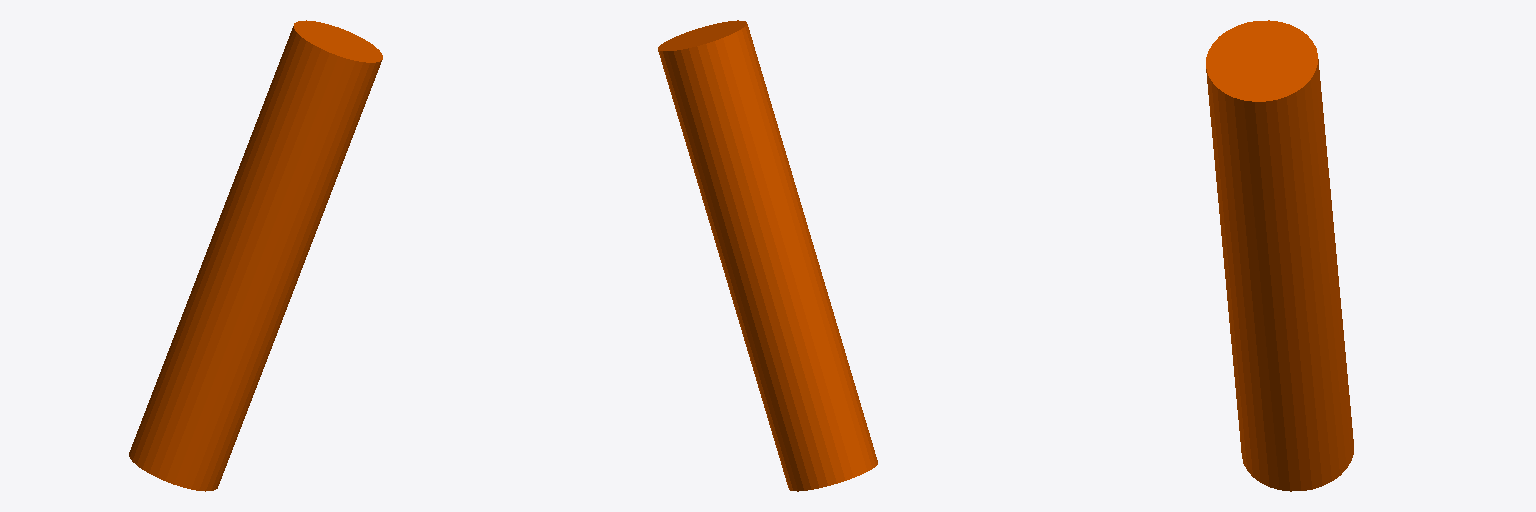
robot.urdf — youbot:
<?xml version="1.0" ?>
<robot name="youbot">
  <mujoco>
    <compiler balanceinertia="true" discardvisual="false"/>
  </mujoco>

  <!--  -->
  
  
  

  

  <link name="base_footprint">
  </link>
  <joint name="base_footprint_joint" type="fixed">
    <origin rpy="0 0 0" xyz="0 0 0"/>
    <child link="base_link"/>
    <parent link="base_footprint"/>
  </joint>
  <link name="base_link">
    <inertial>
      <mass value="22.0"/>
      <origin xyz="0 0 0"/>
      <inertia ixx="5.652232699207" ixy="-0.009719934438" ixz="1.293988226423" iyy="5.669473158652" iyz="-0.007379583694" izz="3.683196351726"/>
    </inertial>
    <visual>
      <origin rpy="0 0 0" xyz="0 0 0"/>
      <geometry>
        <mesh filename="../meshes/youbot_base/base.dae"/>
      </geometry>
    </visual>
    <collision>
      <origin rpy="0 0 0" xyz="0 0 0"/>
      <geometry>
        <mesh filename="../meshes/youbot_base/base_convex.dae"/>
      </geometry>
    </collision>
  </link>
  <joint name="caster_joint_fl" type="fixed">
    <origin rpy="0 0 0" xyz="0.228 0.158 -0.034"/>
    <axis xyz="0 0 1"/>
    <parent link="base_link"/>
    <child link="caster_link_fl"/>
  </joint>
  <link name="caster_link_fl">
    <inertial>
      <mass value="0.1"/>
      <origin xyz="0 0 0"/>
      <inertia ixx="0.012411765597" ixy="-0.000711733678" ixz="0.00050272983" iyy="0.015218160428" iyz="-0.000004273467" izz="0.011763977943"/>
    </inertial>
  </link>
  <joint name="wheel_joint_fl" type="continuous">
    <axis xyz="0 1 0"/>
    <limit effort="30" velocity="10"/>
    <origin rpy="0 0 0" xyz="0.0 0.0 0.0"/>
    <parent link="caster_link_fl"/>
    <dynamics damping="1.0" friction="1.0"/>
    <child link="wheel_link_fl"/>
  </joint>
  <link name="wheel_link_fl">
    <inertial>
      <mass value="0.4"/>
      <origin xyz="0 0 0"/>
      <inertia ixx="0.012411765597" ixy="-0.000711733678" ixz="0.00050272983" iyy="0.015218160428" iyz="-0.000004273467" izz="0.011763977943"/>
    </inertial>
    <visual>
      <origin rpy="0 0 0" xyz="0 0 0"/>
      <geometry>
        <mesh filename="../meshes/youbot_base/front-left_wheel.dae"/>
      </geometry>
    </visual>
    <collision>
      <origin rpy="1.570795 0 0" xyz="0 0 0"/>
      <geometry>
        <cylinder length="0.05" radius="0.05"/>
      </geometry>
    </collision>
  </link>
  <joint name="caster_joint_fr" type="fixed">
    <origin rpy="0 0 0" xyz="0.228 -0.158 -0.034"/>
    <axis xyz="0 0 1"/>
    <parent link="base_link"/>
    <child link="caster_link_fr"/>
  </joint>
  <link name="caster_link_fr">
    <inertial>
      <mass value="0.1"/>
      <origin xyz="0 0 0"/>
      <inertia ixx="0.012411765597" ixy="-0.000711733678" ixz="0.00050272983" iyy="0.015218160428" iyz="-0.000004273467" izz="0.011763977943"/>
    </inertial>
  </link>
  <joint name="wheel_joint_fr" type="continuous">
    <axis xyz="0 1 0"/>
    <limit effort="30" velocity="10"/>
    <dynamics damping="1.0" friction="1.0"/>
    <origin rpy="0 0 0" xyz="0.0 0.0 0.0"/>
    <parent link="caster_link_fr"/>
    <child link="wheel_link_fr"/>
  </joint>
  <link name="wheel_link_fr">
    <inertial>
      <mass value="0.4"/>
      <origin xyz="0 0 0"/>
      <inertia ixx="0.012411765597" ixy="-0.000711733678" ixz="0.00050272983" iyy="0.015218160428" iyz="-0.000004273467" izz="0.011763977943"/>
    </inertial>
    <visual>
      <origin rpy="0 0 0" xyz="0 0 0"/>
      <geometry>
        <mesh filename="../meshes/youbot_base/front-right_wheel.dae"/>
      </geometry>
    </visual>
    <collision>
      <origin rpy="1.570795 0 0" xyz="0 0 0"/>
      <geometry>
        <cylinder length="0.05" radius="0.05"/>
      </geometry>
    </collision>
  </link>
  <joint name="caster_joint_bl" type="fixed">
    <origin rpy="0 0 0" xyz="-0.228 0.158 -0.034"/>
    <axis xyz="0 0 1"/>
    <parent link="base_link"/>
    <child link="caster_link_bl"/>
  </joint>
  <link name="caster_link_bl">
    <inertial>
      <mass value="0.1"/>
      <origin xyz="0 0 0"/>
      <inertia ixx="0.012411765597" ixy="-0.000711733678" ixz="0.00050272983" iyy="0.015218160428" iyz="-0.000004273467" izz="0.011763977943"/>
    </inertial>
  </link>
  <joint name="wheel_joint_bl" type="continuous">
    <axis xyz="0 1 0"/>
    <limit effort="30" velocity="10"/>
    <dynamics damping="1.0" friction="1.0"/>
    <origin rpy="0 0 0" xyz="0.0 0.0 0.0"/>
    <parent link="caster_link_bl"/>
    <child link="wheel_link_bl"/>
  </joint>
  <link name="wheel_link_bl">
    <inertial>
      <mass value="0.4"/>
      <origin xyz="0 0 0"/>
      <inertia ixx="0.012411765597" ixy="-0.000711733678" ixz="0.00050272983" iyy="0.015218160428" iyz="-0.000004273467" izz="0.011763977943"/>
    </inertial>
    <visual>
      <origin rpy="0 0 0" xyz="0 0 0"/>
      <geometry>
        <mesh filename="../meshes/youbot_base/back-left_wheel.dae"/>
      </geometry>
    </visual>
    <collision>
      <origin rpy="1.570795 0 0" xyz="0 0 0"/>
      <geometry>
        <cylinder length="0.05" radius="0.05"/>
      </geometry>
    </collision>
  </link>
  <joint name="caster_joint_br" type="fixed">
    <origin rpy="0 0 0" xyz="-0.228 -0.158 -0.034"/>
    <axis xyz="0 0 1"/>
    <parent link="base_link"/>
    <child link="caster_link_br"/>
  </joint>
  <link name="caster_link_br">
    <inertial>
      <mass value="0.1"/>
      <origin xyz="0 0 0"/>
      <inertia ixx="0.012411765597" ixy="-0.000711733678" ixz="0.00050272983" iyy="0.015218160428" iyz="-0.000004273467" izz="0.011763977943"/>
    </inertial>
  </link>
  <joint name="wheel_joint_br" type="continuous">
    <axis xyz="0 1 0"/>
    <limit effort="30" velocity="10"/>
    <dynamics damping="1.0" friction="1.0"/>
    <origin rpy="0 0 0" xyz="0.0 0.0 0.0"/>
    <parent link="caster_link_br"/>
    <child link="wheel_link_br"/>
  </joint>
  <link name="wheel_link_br">
    <inertial>
      <mass value="0.4"/>
      <origin xyz="0 0 0"/>
      <inertia ixx="0.012411765597" ixy="-0.000711733678" ixz="0.00050272983" iyy="0.015218160428" iyz="-0.000004273467" izz="0.011763977943"/>
    </inertial>
    <visual>
      <origin rpy="0 0 0" xyz="0 0 0"/>
      <geometry>
        <mesh filename="../meshes/youbot_base/back-right_wheel.dae"/>
      </geometry>
    </visual>
    <collision>
      <origin rpy="1.570795 0 0" xyz="0 0 0"/>
      <geometry>
        <cylinder length="0.05" radius="0.05"/>
      </geometry>
    </collision>
  </link>
  <joint name="base_laser_front_hokuyo_urg04_laser_joint" type="fixed">
    <axis xyz="0 1 0"/>
    <origin rpy="3.14159 3.14159 3.14159" xyz="0.3 0 -0.03"/>
    <parent link="base_link"/>
    <child link="base_laser_front_link"/>
  </joint>
  <link name="base_laser_front_link">
    <inertial>
      <mass value="0.16"/>
      <origin rpy="0 0 0" xyz="0 0 0"/>
      <inertia ixx="0.1" ixy="0" ixz="0" iyy="0.1" iyz="0" izz="0.1"/>
    </inertial>
    <visual>
      <origin rpy="0 0 0" xyz="0 0 0"/>
      <geometry>
        <mesh filename="../meshes/sensors/hokuyo.dae"/>
      </geometry>
      <material name="black"/>
    </visual>
    <collision>
      <origin rpy="0 0 0" xyz="0 0 0"/>
      <geometry>
        <mesh filename="../meshes/sensors/hokuyo_convex.dae"/>
      </geometry>
    </collision>
    
  </link>

  

  
  <!-- 
  <transmission name="wheel_trans_fl">
    <type>transmission_interface/SimpleTransmission</type>
    <joint name="wheel_joint_fl"/>
    <actuator name="wheel_motor_fl">
      <hardwareInterface>EffortJointInterface</hardwareInterface>
      <mechanicalReduction>79.2380952381</mechanicalReduction>
    </actuator>
  </transmission>
  <transmission name="wheel_trans_fr">
    <type>transmission_interface/SimpleTransmission</type>
    <joint name="wheel_joint_fr"/>
    <actuator name="wheel_motor_fr">
      <hardwareInterface>EffortJointInterface</hardwareInterface>
      <mechanicalReduction>79.2380952381</mechanicalReduction>
    </actuator>
  </transmission>
  <transmission name="wheel_trans_bl">
    <type>transmission_interface/SimpleTransmission</type>
    <joint name="wheel_joint_bl"/>
    <actuator name="wheel_motor_bl">
      <hardwareInterface>EffortJointInterface</hardwareInterface>
      <mechanicalReduction>79.2380952381</mechanicalReduction>
    </actuator>
  </transmission>
  <transmission name="wheel_trans_br">
    <type>transmission_interface/SimpleTransmission</type>
    <joint name="wheel_joint_br"/>
    <actuator name="wheel_motor_br">
      <hardwareInterface>EffortJointInterface</hardwareInterface>
      <mechanicalReduction>79.2380952381</mechanicalReduction>
    </actuator>
  </transmission> -->
  <joint name="plate_joint" type="fixed">
    <origin rpy="0 0 0" xyz="-0.159 0 0.055"/>
    <parent link="base_link"/>
    <child link="plate_link"/>
  </joint>
  <link name="plate_link">
    <inertial>
      <origin rpy="0 0 0" xyz="0 0 -0.025"/>
      <mass value="1"/>
      <inertia ixx="0.01" ixy="0" ixz="0" iyy="0.01" iyz="0" izz="0.01"/>
    </inertial>
    <visual>
      <origin rpy="0 0 0" xyz="0 0 -0.025"/>
      <geometry>
        <mesh filename="../meshes/youbot_plate/plate.dae"/>
      </geometry>
    </visual>
    <collision>
      <origin rpy="0 0 0" xyz="0 0 -0.025"/>
      <geometry>
        <mesh filename="../meshes/youbot_plate/plate_convex.dae"/>
      </geometry>
    </collision>
  </link>
  <joint name="arm_joint_0" type="fixed">
    <origin rpy="0 0 0" xyz="0.143 0 0.046"/>
    <parent link="base_link"/>
    <child link="arm_link_0"/>
  </joint>
  <link name="arm_link_0">
    <inertial>
      <!--<origin xyz="0.023 0 0.006" rpy="0 0 0"/>-->
      <origin rpy="0 0 0" xyz="0 0 0"/>
      <mass value="0.845"/>
      <inertia ixx="0.01" ixy="0" ixz="0" iyy="0.01" iyz="0" izz="0.01"/>
    </inertial>
    <visual>
      <origin rpy="0 0 0" xyz="0 0 0"/>
      <geometry>
        <mesh filename="../meshes/youbot_arm/arm0.dae"/>
      </geometry>
    </visual>
    <collision>
      <!--<origin xyz="0.023 0 0.006" rpy="0 0 0"/>-->
      <origin rpy="0 0 0" xyz="0 0 0"/>
      <geometry>
        <mesh filename="../meshes/youbot_arm/arm0_convex.dae"/>
        <!--<cylinder length="0.078" radius="0.093"/>-->
      </geometry>
    </collision>
  </link>
  <joint name="arm_joint_1" type="revolute">
    <origin rpy="0 0 2.96705722222" xyz="0.024 0 0.095"/>
    <parent link="arm_link_0"/>
    <child link="arm_link_1"/>
    <axis xyz="0 0 -1"/>
    <!--<calibration rising="${arm_1_ref}" falling="${arm_1_ref}"/>-->
    <dynamics damping="1" friction="1"/>
    <!-- damping - N*s/m, N*s*m/rad -->
    <!-- friction - N, N*m -->
    <limit effort="10000.0" lower="0" upper="5.89920788889" velocity="1.570795"/>
    <!--effort - N, N*m-->
    <!--velocity - m/s, rad/s-->
    <!--k_position N/m, N/rad-->
    <!--k_velocity N*s/m, N*s*m/rad-->
    <!--for details: http://www.ros.org/wiki/pr2_controller_manager/safety_limits-->
  </joint>
  <link name="arm_link_1">
    <inertial>
      <mass value="2.412"/>
      <origin rpy="0 0 0" xyz="0.01489 0.00213 0.00213"/>
      <inertia ixx="0.003863" ixy="-0.000979" ixz="0.000000" iyy="0.006196" iyz="0.000000" izz="0.006369"/>
    </inertial>
    <visual>
      <origin xyz="0 0 0" rpy="0 0 0" />
      <geometry>
        <mesh filename="../meshes/youbot_arm/arm1.dae"/>
      </geometry>
    </visual>
    <collision>
      <!--<origin xyz="0 0 -0.003" rpy="0 0 0" />-->
      <origin xyz="0 0 0.02" rpy="3.14159 0 0" />
      <geometry>
        <mesh filename="../meshes/youbot_arm/arm_joint_1_convex.stl"/>
        <!--<cylinder length="0.102" radius="0.080"/>-->
      </geometry>
    </collision>
  </link>
  <joint name="arm_joint_2" type="revolute">
    <origin rpy="0 -1.13446305556 0" xyz="0.033 0 0.02"/>
    <parent link="arm_link_1"/>
    <child link="arm_link_2"/>
    <axis xyz="0 1 0"/>
    <!--<calibration rising="${arm_2_ref}" falling="${arm_2_ref}"/>-->
    <dynamics damping="1" friction="1"/>
    <limit effort="10000.0" lower="0" upper="2.70525805556" velocity="1.570795"/>
  </joint>
  <link name="arm_link_2">
    <inertial>
      <mass value="1.155"/>
      <origin rpy="0 0 0" xyz="0.10453 0.0017 -0.00297"/>
      <inertia ixx="0.000823" ixy="0.000000" ixz="-0.000000" iyy="0.004447" iyz="0.000000" izz="0.004439"/>
    </inertial>
    <visual>
      <origin xyz="0.001 -0.03 0.077" rpy="0 0 0" />
      <geometry>
        <mesh filename="../meshes/youbot_arm/arm2.dae"/>
      </geometry>
    </visual>
    <collision>
      <!--<origin xyz="0.001 -0.041 0.074" rpy="0 0 0" />-->
      <origin rpy="-1.570795 -1.570795 0" xyz="0 0 0"/>
      <geometry>
        <mesh filename="../meshes/youbot_arm/arm_joint_2_convex.stl"/>
        <!--<box size="0.074 0.082 0.222"/>-->
      </geometry>
    </collision>
  </link>
  <joint name="arm_joint_3" type="revolute">
    <origin rpy="0 2.54817855556 0" xyz="0.000 0.000 0.155"/>
    <parent link="arm_link_2"/>
    <child link="arm_link_3"/>
    <axis xyz="0 1 0"/>
    <dynamics damping="1" friction="1"/>
    <limit effort="10000.0" lower="-5.1836235" upper="0" velocity="1.570795"/>
  </joint>
  <link name="arm_link_3">
    <inertial>
      <mass value="0.934"/>
      <origin rpy="0 0 0" xyz="0.0001 0.0967 0.02107"/>
      <inertia ixx="0.002459" ixy="0.000000" ixz="0.000000" iyy="0.002571" iyz="-0.000000" izz="0.000535"/>
    </inertial>
    <visual>
      <origin rpy="0 0 0" xyz="0.000 0.027 0.08"/>
      <geometry>
        <mesh filename="../meshes/youbot_arm/arm3.dae"/>
      </geometry>
    </visual>
    <collision>
      <!--<origin xyz="0.000 0.025 0.067" rpy="0 0 0" />-->
      <origin rpy="1.570795 0 3.14159" xyz="0 0 0"/>
      <geometry>
        <mesh filename="../meshes/youbot_arm/arm_joint_3_convex.stl"/>
        <!--<box size="0.064 0.054 0.192"/>-->
      </geometry>
    </collision>
  </link>
  <joint name="arm_joint_4" type="revolute">
    <origin rpy="0 -1.78896097222 0" xyz="0.000 0.000 0.135"/>
    <parent link="arm_link_3"/>
    <child link="arm_link_4"/>
    <axis xyz="0 1 0"/>
    <dynamics damping="1" friction="1"/>
    <limit effort="10000.0" lower="0" upper="3.57792194444" velocity="1.570795"/>
  </joint>
  <link name="arm_link_4">
    <inertial>
      <mass value="0.877"/>
      <origin rpy="0 0 0" xyz="0.00011 0.05103 -0.02319"/>
      <inertia ixx="0.000869" ixy="0.000000" ixz="-0.000000" iyy="0.001173" iyz="-0.000231" izz="0.001091"/>
    </inertial>
    <visual>
      <origin rpy="0 0 0" xyz="0 -0.008 0.026"/>
      <geometry>
        <mesh filename="../meshes/youbot_arm/arm4.dae"/>
      </geometry>
    </visual>
    <collision>
      <!--<origin xyz="0 0 0.026" rpy="0 0 0" />-->
      <origin rpy="1.570795 0 3.14159" xyz="0 0 0"/>
      <geometry>
        <mesh filename="../meshes/youbot_arm/arm_joint_4_convex.stl"/>
        <!--<box size="0.058 0.100 0.118"/>-->
      </geometry>
    </collision>
  </link>
  <joint name="arm_joint_5" type="revolute">
    <origin rpy="0 0 2.92342402778" xyz="0 0 0.114"/>
    <parent link="arm_link_4"/>
    <child link="arm_link_5"/>
    <axis xyz="0 0 -1"/>
    <dynamics damping="1" friction="1"/>
    <limit effort="10000.0" lower="0" upper="5.84684805556" velocity="1.570795"/>
  </joint>
  <link name="arm_link_5">
    <inertial>
      <mass value="0.251"/>
      <origin rpy="0 0 0" xyz="0.0 0.00115 -0.01683"/>
      <inertia ixx="0.000280" ixy="0.000000" ixz="0.000000" iyy="0.000339" iyz="0.000000" izz="0.000119"/>
    </inertial>
    <visual>
      <origin rpy="0 0 0" xyz="0 0 -0.019"/>
      <geometry>
        <mesh filename="../meshes/youbot_arm/arm5.dae"/>
      </geometry>
    </visual>
    <collision>
      <origin rpy="0 0 0" xyz="0 0 0"/>
      <geometry>
        <mesh filename="../meshes/youbot_arm/arm5.dae"/>
      </geometry>
    </collision>
  </link>

  <!-- ==================== GRIPPER ==================== -->
  <!-- Gripper Palm (fixed to arm_link_5) -->
  <joint name="gripper_palm_joint" type="fixed">
    <origin rpy="0 0 0" xyz="0 0 0"/>
    <parent link="arm_link_5"/>
    <child link="gripper_palm_link"/>
  </joint>

  <link name="gripper_palm_link">
    <inertial>
      <mass value="0.1"/>
      <origin rpy="0 0 0" xyz="0 0 0"/>
      <inertia ixx="0.01" ixy="0" ixz="0" iyy="0.01" iyz="0" izz="0.01"/>
    </inertial>
    <visual>
      <origin rpy="0 0 0" xyz="0 0 0"/>
      <geometry>
        <mesh filename="../meshes/youbot_gripper/palm.dae"/>
      </geometry>
    </visual>
    <collision>
      <origin rpy="0 0 0" xyz="0 0 0"/>
      <geometry>
        <mesh filename="../meshes/youbot_gripper/palm_convex.dae"/>
      </geometry>
    </collision>
  </link>

  <!-- Gripper Left Finger -->
  <joint name="gripper_finger_joint_l" type="prismatic">
    <origin rpy="0 0 0" xyz="0.0 0.0085 0.0"/>
    <parent link="gripper_palm_link"/>
    <child link="gripper_finger_link_l"/>
    <axis xyz="0 1 0"/>
    <dynamics damping="1.0" friction="1.0"/>
    <limit effort="20" lower="0.0" upper="0.0115" velocity="1.0"/>
  </joint>

  <link name="gripper_finger_link_l">
    <inertial>
      <mass value="0.01"/>
      <origin rpy="0 0 0" xyz="0 0 0"/>
      <inertia ixx="0.001" ixy="0" ixz="0" iyy="0.001" iyz="0" izz="0.001"/>
    </inertial>
    <visual>
      <origin rpy="0 0 0" xyz="0 0 0"/>
      <geometry>
        <mesh filename="../meshes/youbot_gripper/finger.dae"/>
      </geometry>
    </visual>
    <collision>
      <origin rpy="0 0 0" xyz="0 0 0"/>
      <geometry>
        <mesh filename="../meshes/youbot_gripper/finger_convex.dae"/>
      </geometry>
    </collision>
  </link>

  <!-- Gripper Right Finger -->
  <joint name="gripper_finger_joint_r" type="prismatic">
    <origin rpy="0 0 3.14159265359" xyz="0.0 -0.0085 0.0"/>
    <parent link="gripper_palm_link"/>
    <child link="gripper_finger_link_r"/>
    <axis xyz="0 1 0"/>
    <dynamics damping="1.0" friction="1.0"/>
    <limit effort="20" lower="0.0" upper="0.0115" velocity="1.0"/>
    
  </joint>

  <link name="gripper_finger_link_r">
    <inertial>
      <mass value="0.01"/>
      <origin rpy="0 0 0" xyz="0 0 0"/>
      <inertia ixx="0.001" ixy="0" ixz="0" iyy="0.001" iyz="0" izz="0.001"/>
    </inertial>
    <visual>
      <origin rpy="0 0 0" xyz="0 0 0"/>
      <geometry>
        <mesh filename="../meshes/youbot_gripper/finger.dae"/>
      </geometry>
    </visual>
    <collision>
      <origin rpy="0 0 0" xyz="0 0 0"/>
      <geometry>
        <mesh filename="../meshes/youbot_gripper/finger_convex.dae"/>
      </geometry>
    </collision>
  </link>

  <!-- Gazebo configuration for gripper -->
  
  
  
  <!-- ==================== END GRIPPER ==================== -->

  <link name="pen">
    <inertial>
      <mass value="0.01"/>
      <origin rpy="0 0 0.1" xyz="0.0 0.00115 -0.01683"/>
      <inertia ixx="0.01" ixy="0.000000" ixz="0.000000" iyy="0.01" iyz="0.000000" izz="0.01"/>
    </inertial>
    <visual>
      <origin rpy="0 0 0.05" xyz="0 0 0"/>
      <geometry>
        <cylinder length="0.1" radius="0.01"/>
      </geometry>
    </visual>
    <collision>
      <origin rpy="0 0 0.05" xyz="0 0 0"/>
      <geometry>
        <cylinder length="0.1" radius="0.01"/>
      </geometry>
    </collision>
  </link>
  <joint name="pen_joint" type="fixed">
    <origin rpy="0 0 0" xyz="0 0 0"/>
    <parent link="gripper_palm_link"/>
    <child link="pen"/>
    <axis xyz="0 0 -1"/>
    <dynamics damping="1" friction="1"/>
    <limit effort="10000.0" lower="0" upper="5.84684805556" velocity="1.570795"/>
  </joint>

  <!--<link name="printer">
    <inertial>
      <mass value="0.01"/>
      <origin rpy="0 0 0" xyz="0 0 0"/>
      <inertia ixx="0.01" ixy="0.000000" ixz="0.000000" iyy="0.01" iyz="0.000000" izz="0.01"/>
    </inertial>
    <collision>
      <origin rpy="0 0 0.05" xyz="0 0 0"/>
      <geometry>
        <box size="0.1 0.1 0.1"/>
      </geometry>
    </collision>
	<visual>
      <origin rpy="0 0 0.05" xyz="0 0 0"/>
      <geometry>
        <box size="0.1 0.1 0.1"/>
      </geometry>
    </visual>
  </link>

  <joint name="printer_joint" type="fixed">
    <origin rpy="0 0 0" xyz="0 0 0"/>
    <parent link="pen"/>
    <child link="printer"/>
    <axis xyz="0 0 -1"/>
    <dynamics damping="1" friction="1"/>
    <limit effort="10000.0" lower="0" upper="5.84684805556" velocity="1.570795"/>
  </joint>-->

  

  
  
  
  
  
  
  
  
  
  
  
  
  
  
  
  
  
  

  <!-- <transmission name="arm_trans_1">
    <type>transmission_interface/SimpleTransmission</type>
    <joint name="arm_joint_1"/>
    <actuator name="arm_motor_1">
      <hardwareInterface>EffortJointInterface</hardwareInterface>
      <mechanicalReduction>1</mechanicalReduction>
    </actuator>
  </transmission>
  <transmission name="arm_trans_2">
    <type>transmission_interface/SimpleTransmission</type>
    <joint name="arm_joint_2"/>
    <actuator name="arm_motor_2">
      <hardwareInterface>EffortJointInterface</hardwareInterface>
      <mechanicalReduction>1</mechanicalReduction>
    </actuator>
  </transmission>
  <transmission name="arm_trans_3">
    <type>transmission_interface/SimpleTransmission</type>
    <joint name="arm_joint_3"/>
    <actuator name="arm_motor_3">
      <hardwareInterface>EffortJointInterface</hardwareInterface>
      <mechanicalReduction>1</mechanicalReduction>
    </actuator>
  </transmission>
  <transmission name="arm_trans_4">
    <type>transmission_interface/SimpleTransmission</type>
    <joint name="arm_joint_4"/>
    <actuator name="arm_motor_4">
      <hardwareInterface>EffortJointInterface</hardwareInterface>
      <mechanicalReduction>1</mechanicalReduction>
    </actuator>
  </transmission>
  <transmission name="arm_trans_5">
    <type>transmission_interface/SimpleTransmission</type>
    <joint name="arm_joint_5"/>
    <actuator name="arm_motor_5">
      <hardwareInterface>EffortJointInterface</hardwareInterface>
      <mechanicalReduction>1</mechanicalReduction>
    </actuator>
  </transmission> -->

  <!-- <ros2_control name="GazeboSystem" type="system">
    <hardware>
      <plugin>gazebo_ros2_control/GazeboSystem</plugin>
    </hardware>
    <joint name="arm_joint_1">
      <command_interface name="position">
        <param name="min">0</param>
        <param name="max">5.89920788889</param>
      </command_interface>
      <state_interface name="position"/>
      <state_interface name="velocity"/>
      <state_interface name="effort"/>
    </joint>
    <joint name="arm_joint_2">
      <command_interface name="position">
        <param name="min">0</param>
        <param name="max">2.70525805556</param>
      </command_interface>
      <state_interface name="position"/>
      <state_interface name="velocity"/>
      <state_interface name="effort"/>
    </joint>
    <joint name="arm_joint_3">
      <command_interface name="position">
        <param name="min">-5.1836235</param>
        <param name="max">0</param>
      </command_interface>
      <state_interface name="position"/>
      <state_interface name="velocity"/>
      <state_interface name="effort"/>
    </joint>
    <joint name="arm_joint_4">
      <command_interface name="position">
        <param name="min">0</param>
        <param name="max">3.57792194444</param>
      </command_interface>
      <state_interface name="position"/>
      <state_interface name="velocity"/>
      <state_interface name="effort"/>
    </joint>
    <joint name="arm_joint_5">
      <command_interface name="position">
        <param name="min">0</param>
        <param name="max">5.84684805556</param>
      </command_interface>
      <state_interface name="position"/>
      <state_interface name="velocity"/>
      <state_interface name="effort"/>
    </joint>
  </ros2_control> -->
</robot>

--- Render facts (derived) ---
The picture shows the robot from 3 angles, left to right: view 1: azimuth 30°, elevation 25°; view 2: azimuth 150°, elevation 25°; view 3: azimuth 270°, elevation 25°; orthographic projection.
Robot: youbot — 22 links, 21 joints (5 revolute, 4 continuous, 2 prismatic, 10 fixed); root link base_footprint; default pose: every joint at zero.
Visible links, largest first — view 1: pen; view 2: pen; view 3: pen.
Link boxes in pixels (box(x1,y1,x2,y2)): pen: box(129, 20, 382, 491); pen: box(658, 20, 877, 491); pen: box(1206, 20, 1353, 491).
Bounding box of the posed robot: 0.0547 × 0.0263 × 0.1004 m (x, y, z).
0 mesh visuals loaded from 15 distinct referenced files (none loaded); not drawn: 16 (reference not matched to a file when rendering).